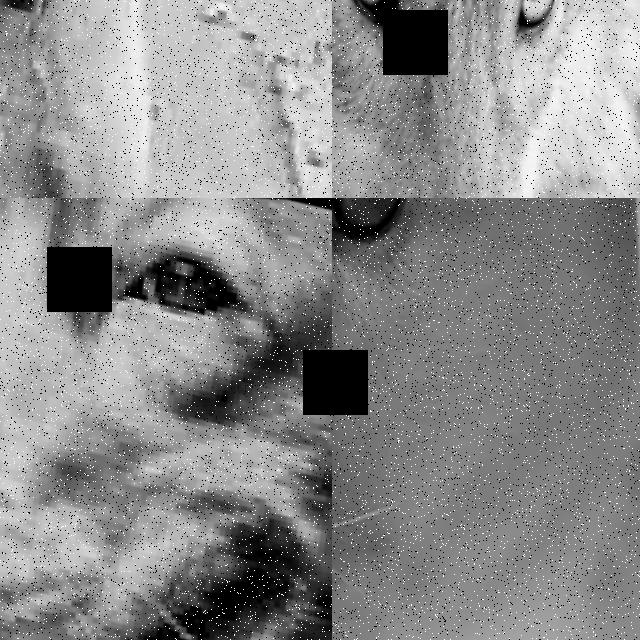dog: (0, 198, 332, 640), (332, 198, 640, 640), (0, 0, 315, 198)
wolf: (332, 0, 640, 198)
